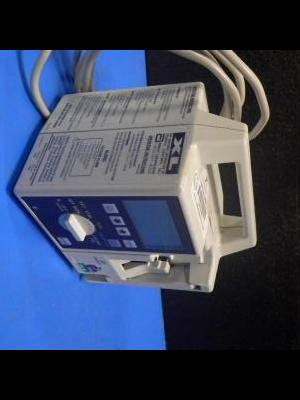plumxl1: (15, 81, 260, 298)
